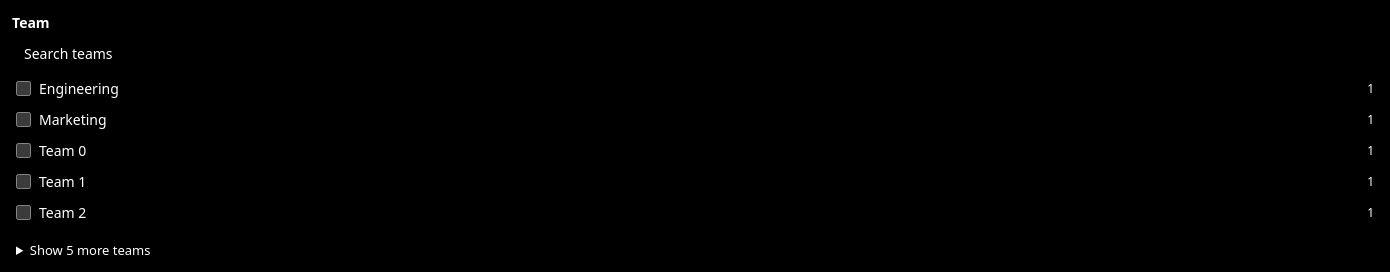
Test: facet option search › narrows the options without touching the URL
Step 1. Type "market" into the search field labelled "Search teams" → (695, 53), box [12,33,1378,73]
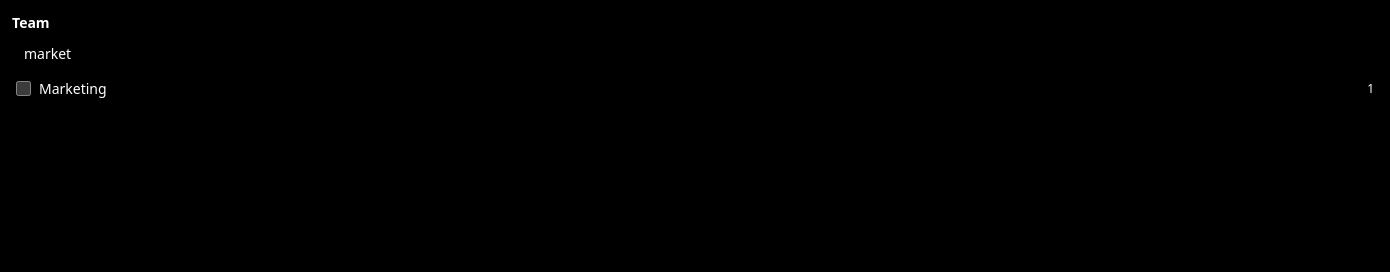
Expected: the checkbox labelled "Marketing 1" is shown, [16,81,31,96]
Result: the text "Engineering" is gone
